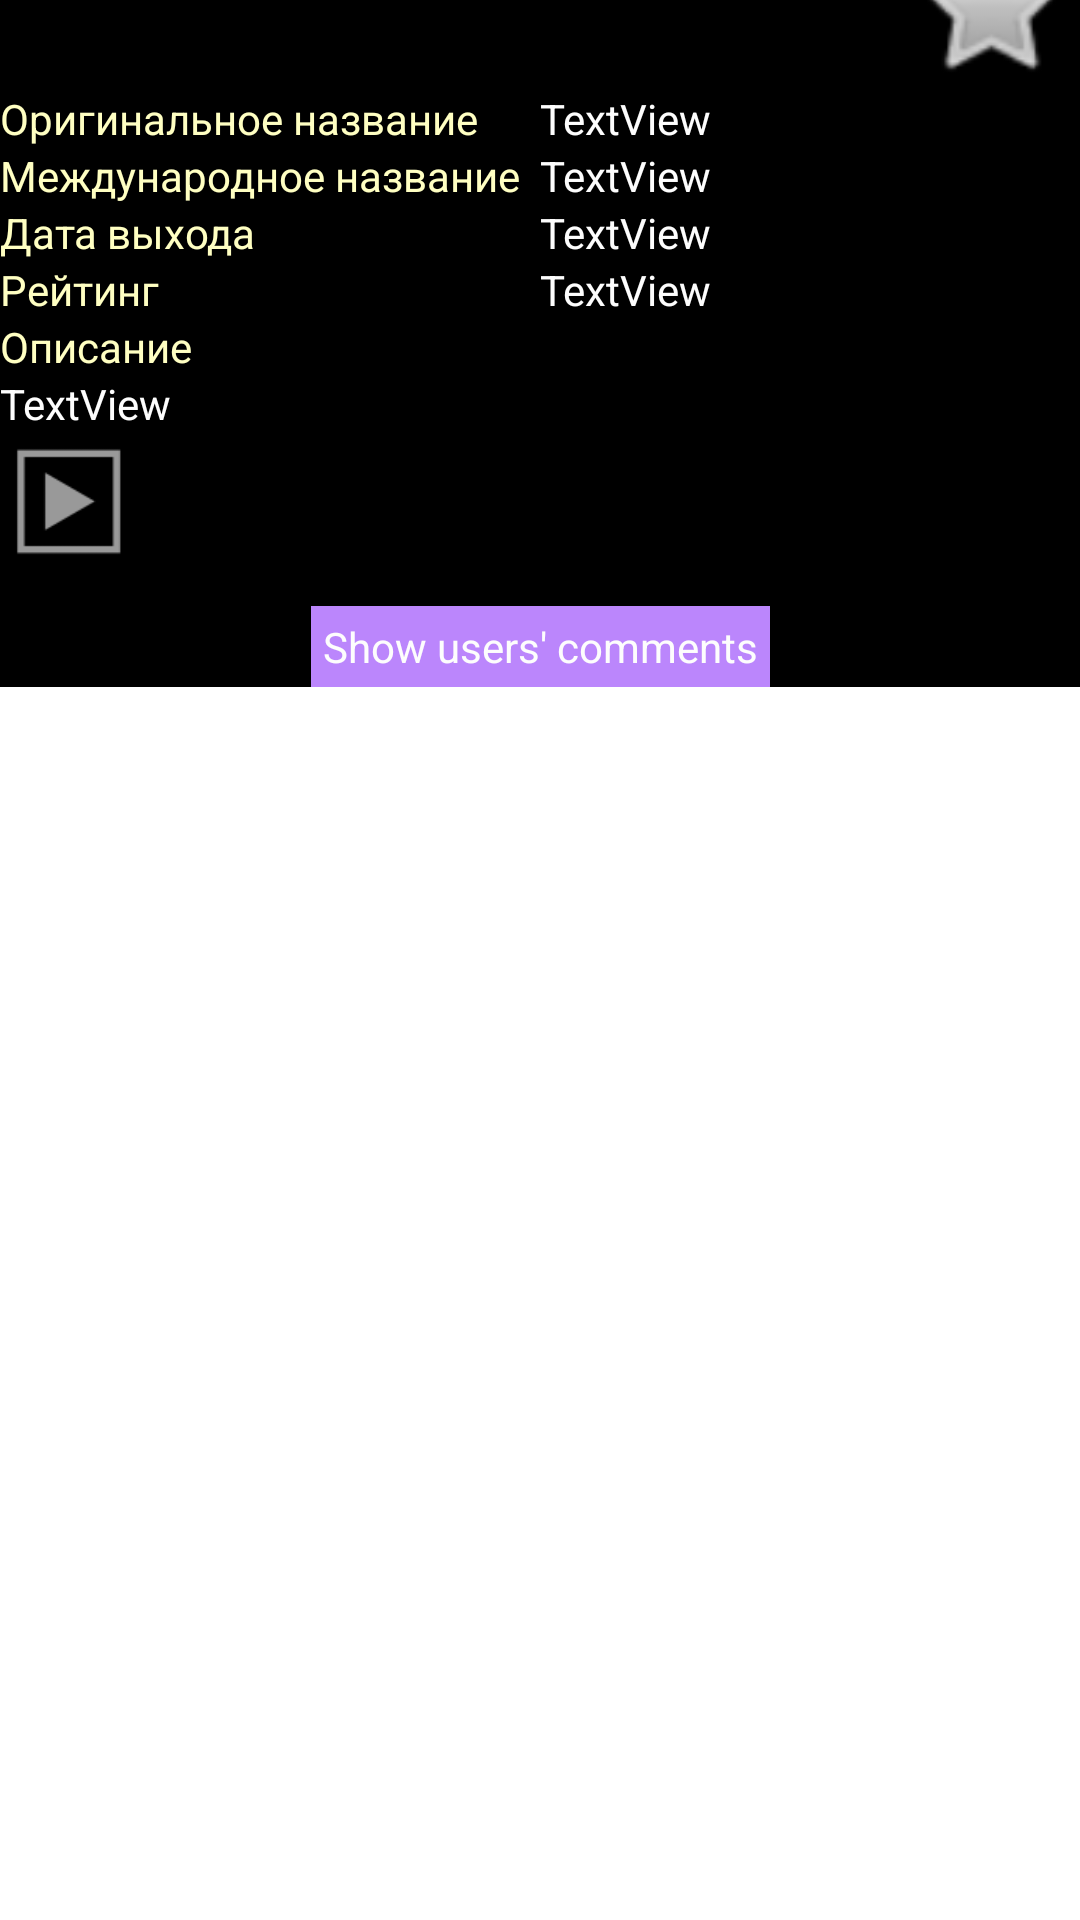

Icon bounding boxes for this 1080*1920 phone screenshot, format (x1, y1, x2, y2):
slideshow: (17, 449, 121, 554)
